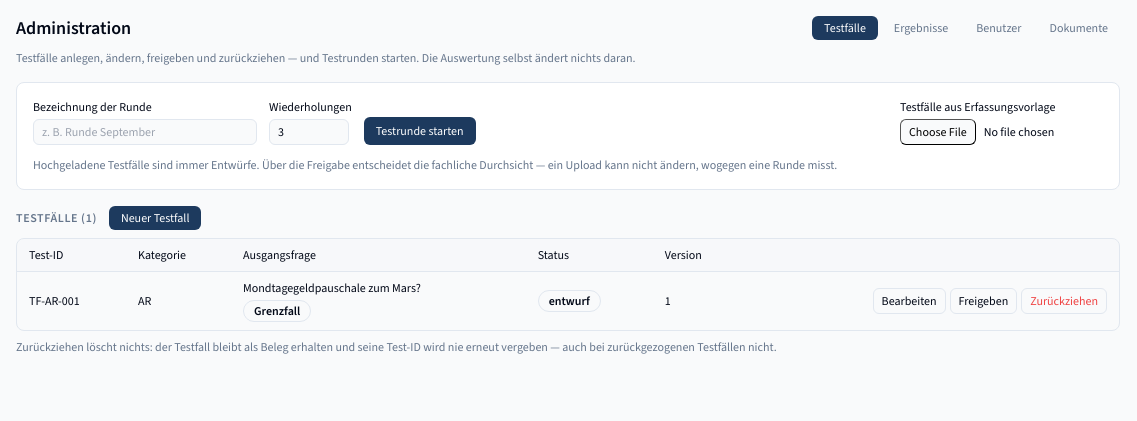
failures › shows the server's reason for refusing approval
Check: the text "TF-AR-001" is shown, box [17,272,126,330]
Step 1. Click the button "Freigeben" → click(983, 301), box [950,288,1017,314]
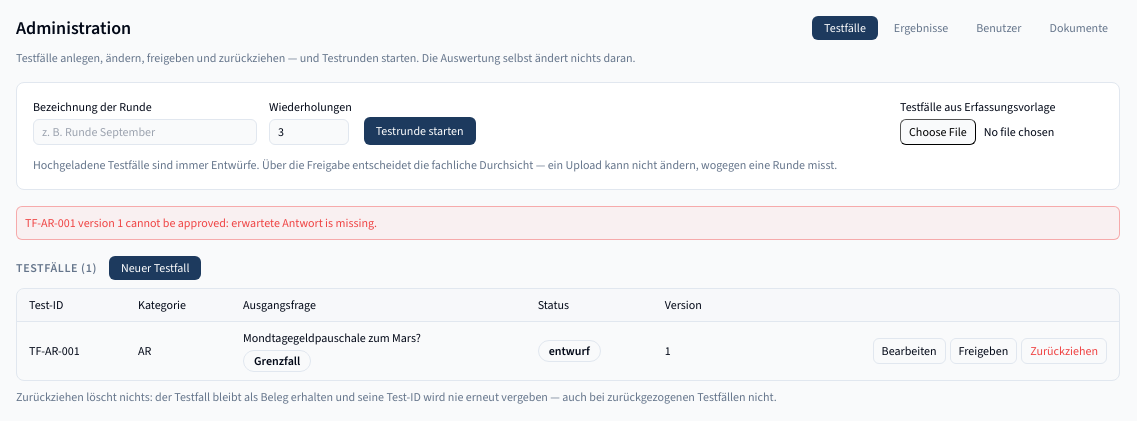
Check: the text "cannot be approved" is shown, box [25,215,377,231]
